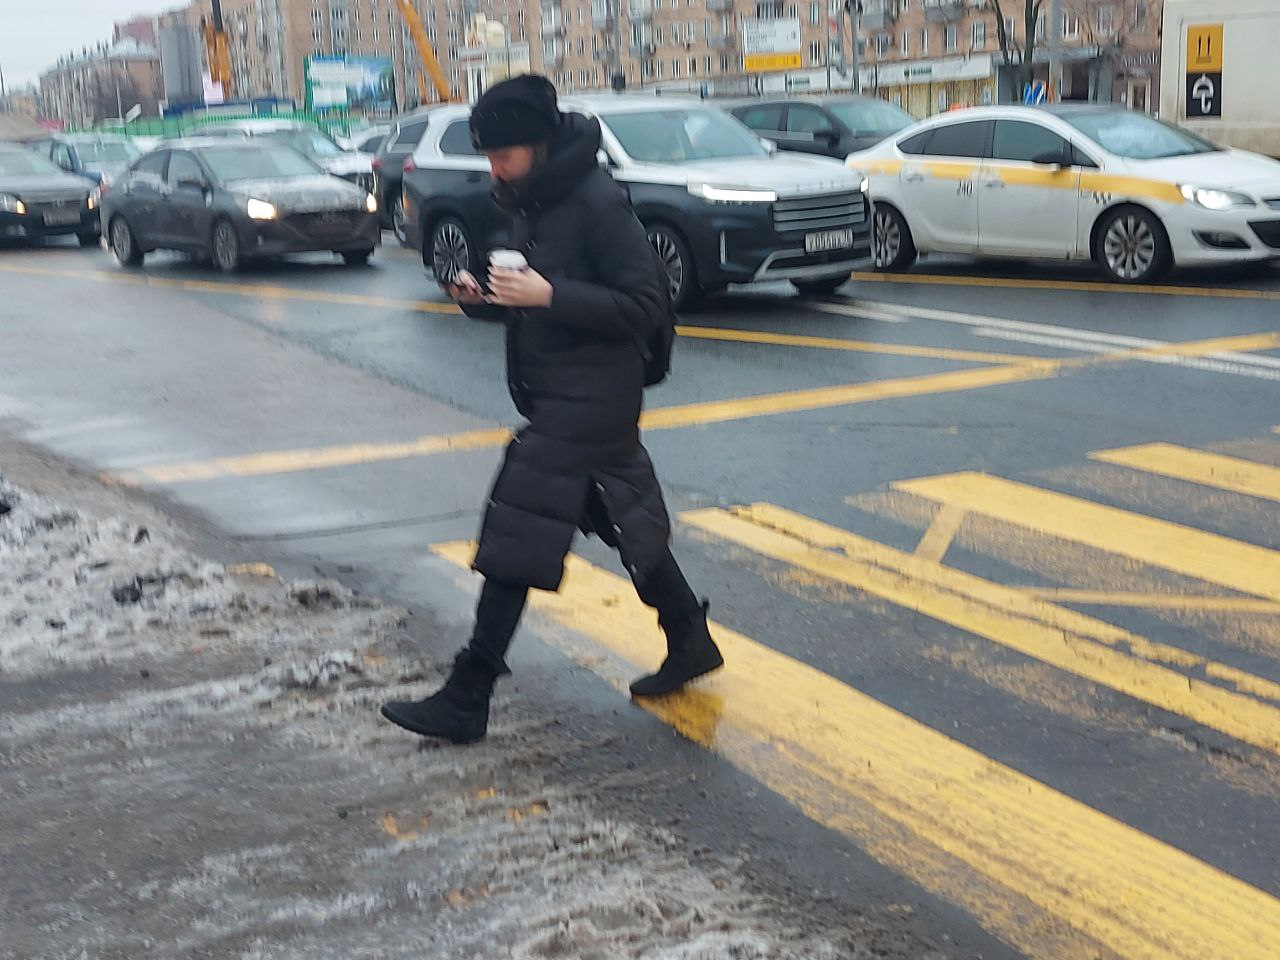sombie: (370, 44, 792, 758)
